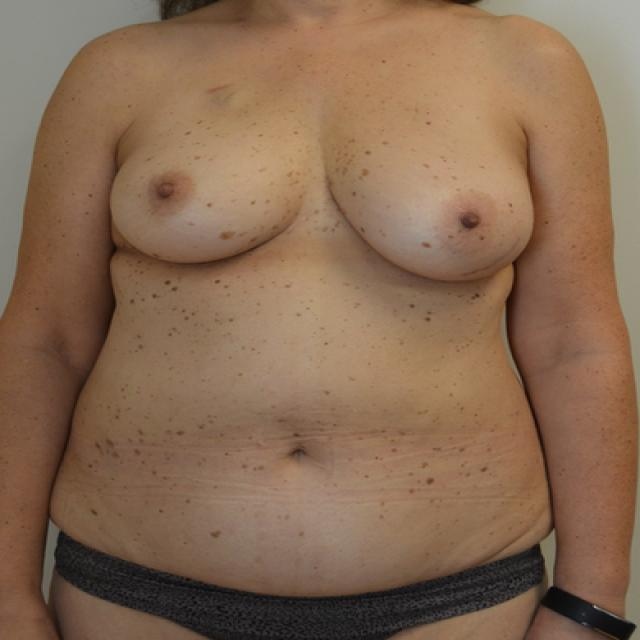Seno ileso: (321, 126, 540, 293), (103, 126, 311, 276)
